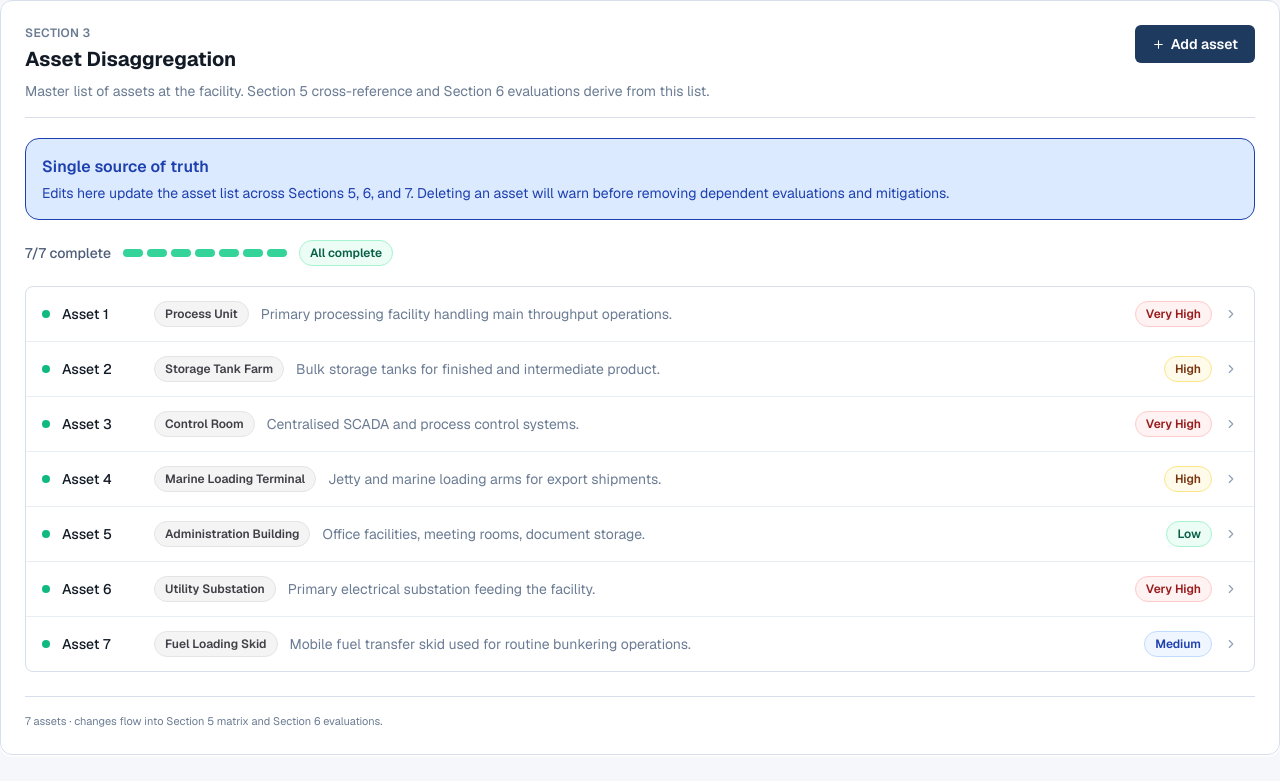
Test: prod mode (VITE_ENABLE_DEMO=false) › a 409 on save renders the exact reload affordance
The width and height of the screenshot is (1280, 781).
Click the button "Asset 1" at (640, 314), box 26,287 -> 1254,342
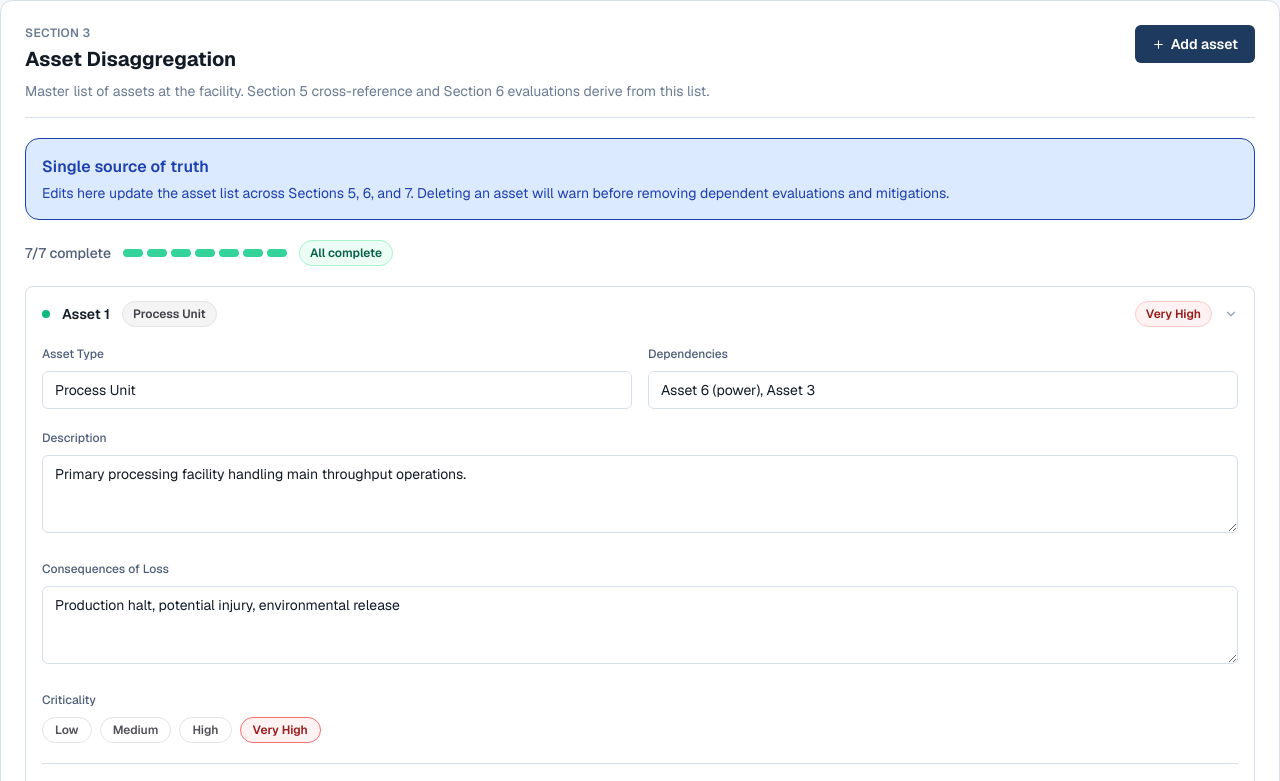
Type " X" into the field with placeholder "e.g. Process Unit, Storage, Control System" below "Asset Type" at (337, 390), box 42,371 -> 632,409
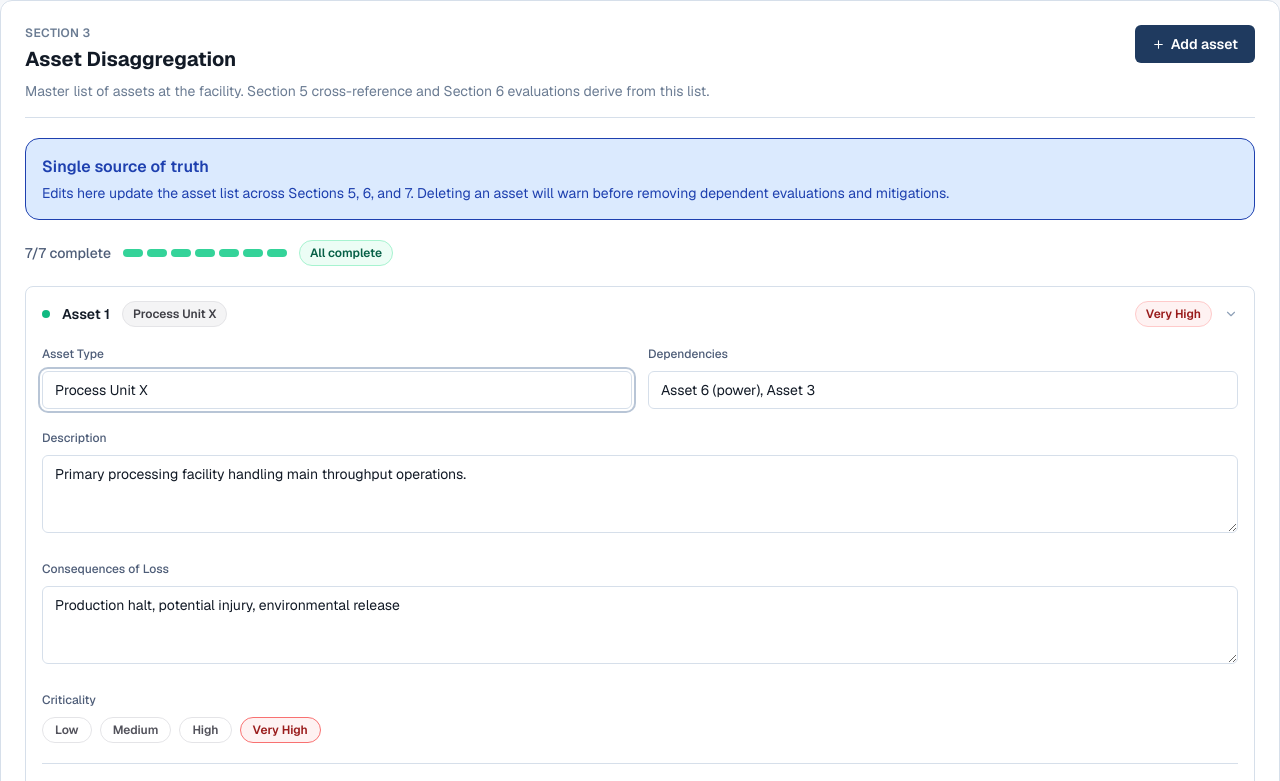
Press Tab
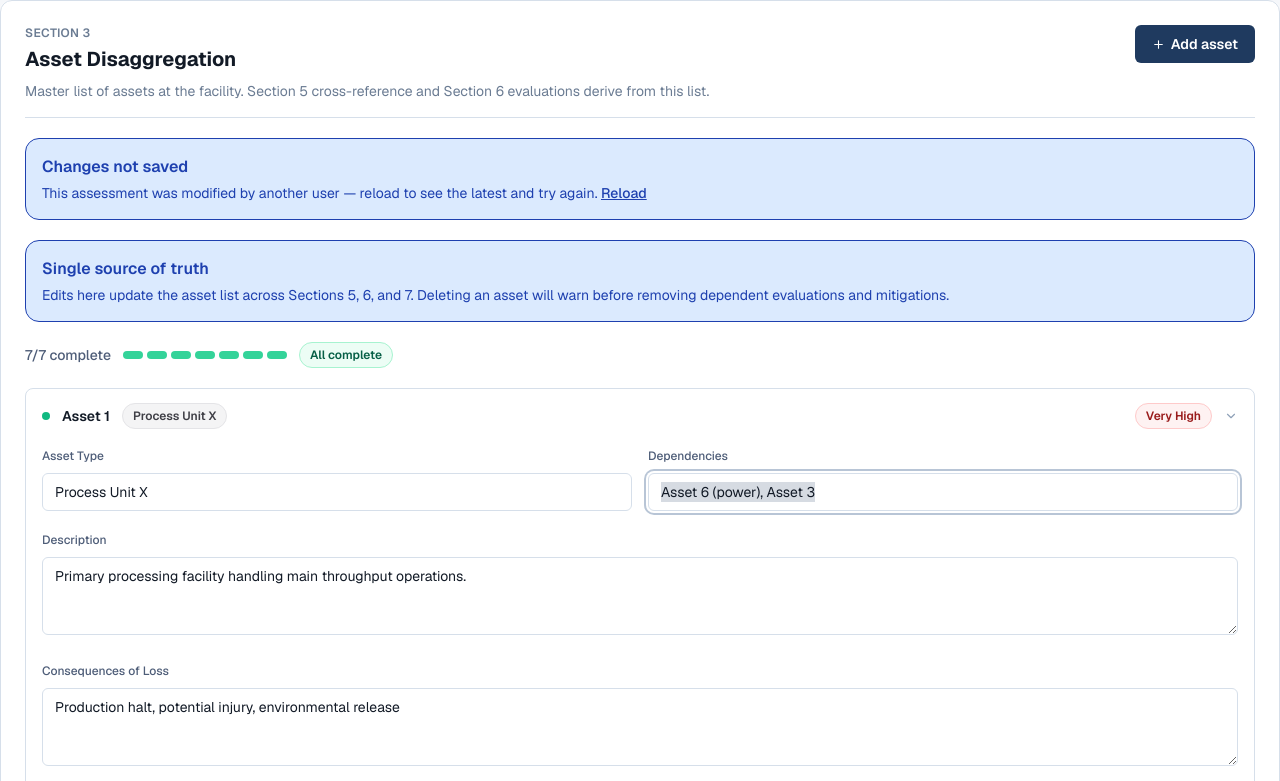
Expected: the text "This assessment was modified by another user — reload to see the latest and try again." is shown, 42,184 -> 598,202
Expected: the button "Reload" is shown, 601,183 -> 647,203
